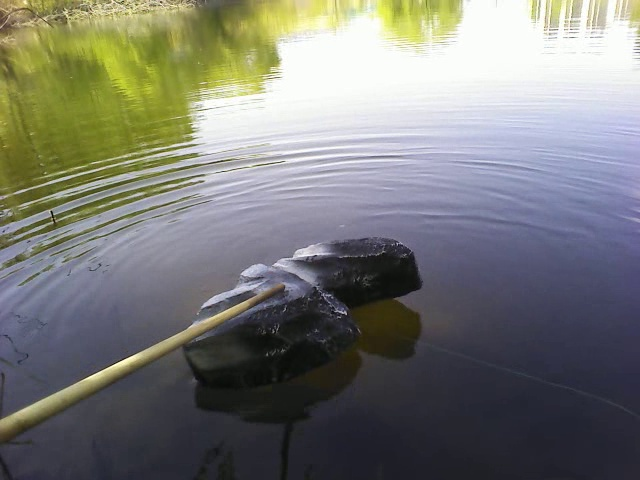rock: (181, 225, 423, 392)
